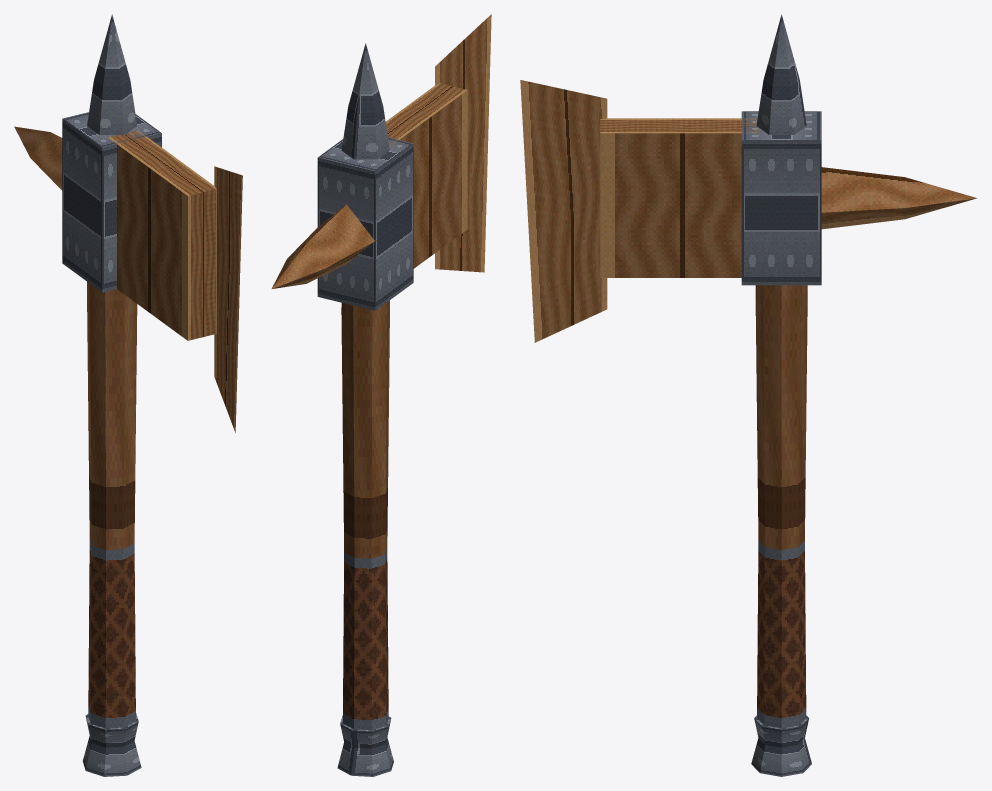
File: machado_de_madeira.glb
3 renders of one model, left to right at view 1: azimuth 30°, elevation 25°; view 2: azimuth 150°, elevation 25°; view 3: azimuth 270°, elevation 25°, orthographic. The views are drawn at different scales.
Parts seen in each view (by area): view 1: machado_de_madeira; view 2: machado_de_madeira; view 3: machado_de_madeira.
Boxes of the visible parts, <box> form: machado_de_madeira: <box>14,14,242,776</box>; machado_de_madeira: <box>271,14,491,776</box>; machado_de_madeira: <box>520,14,976,776</box>.
Size of the model in its own units: 0.096 by 1.14 by 0.63.
1 material, 1 textured.
